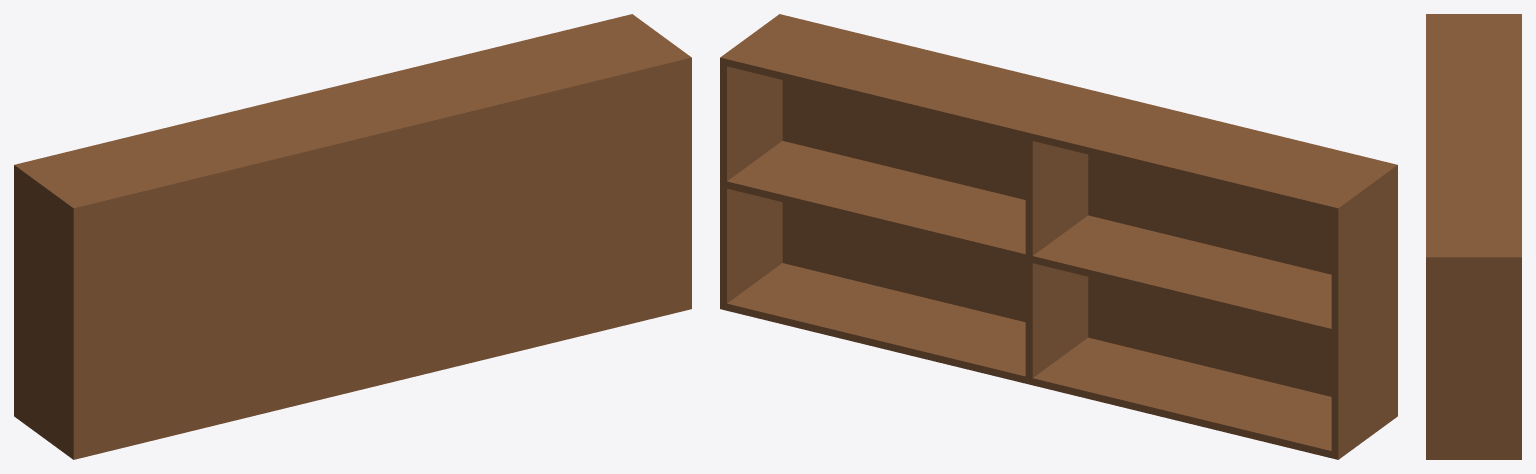
Rendered from parametric-wall-shelf-1st-1800x0300x0700.glb.
The picture shows the model from 3 angles, left to right: view 1: azimuth 30°, elevation 25°; view 2: azimuth 150°, elevation 25°; view 3: azimuth 270°, elevation 25°; orthographic projection. The views are drawn at different scales.
Parts seen in each view (by area): view 1: backboard, top, end:-1; view 2: backboard, top, bottom, shelf, end:-1, end:1, divider:1; view 3: top, end:1, backboard, end:-1.
Boxes of the visible parts, x1,y1,x2,y2 form: backboard: (69,54,691,459); top: (21,15,680,203); end:-1: (14,163,75,456); backboard: (776,14,1397,418); top: (727,18,1386,213); bottom: (727,263,1331,458); shelf: (727,141,1331,335); end:-1: (1331,166,1393,459); end:1: (720,17,782,310); divider:1: (1025,139,1088,377); top: (1432,16,1521,254); end:1: (1432,254,1521,459); backboard: (1426,14,1432,459); end:-1: (1432,14,1521,16).
Size of the model in its own units: 1.8 by 0.7 by 0.3.
